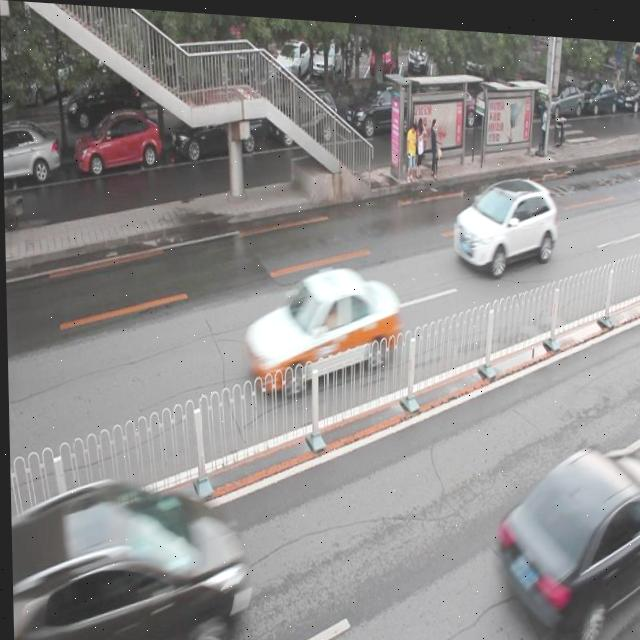car: (30, 475, 245, 640), (488, 432, 640, 636), (240, 260, 399, 396), (449, 165, 557, 272), (166, 91, 261, 160), (71, 107, 161, 174), (340, 72, 419, 135), (266, 81, 337, 145), (2, 120, 57, 184)
